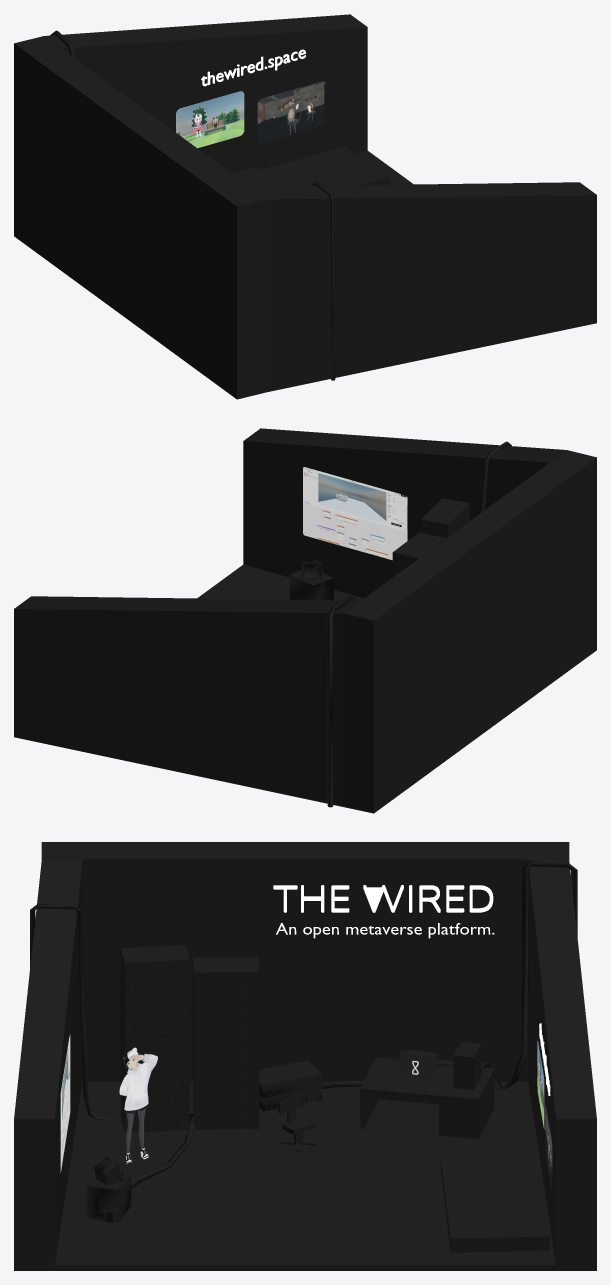
File: wiredspace.glb
The picture shows the model from 3 angles, top to bottom: view 1: azimuth 30°, elevation 25°; view 2: azimuth 150°, elevation 25°; view 3: azimuth 270°, elevation 25°; orthographic projection. The views are drawn at different scales.
Visible parts, largest first — view 1: wired; view 2: wired; view 3: wired.
Part boxes in pixels (x1,y1,x2,y2): wired: (14, 14, 596, 399); wired: (14, 428, 596, 813); wired: (14, 842, 596, 1270).
Size of the model in its own units: 8.1 by 4.4 by 9.94.
4 materials, 2 textured.
